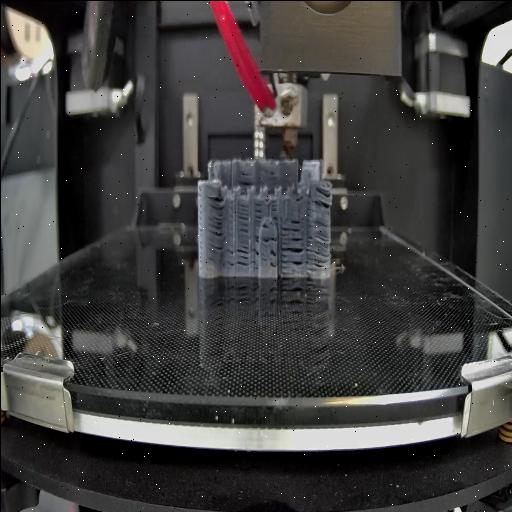cracks: (304, 220, 330, 272), (208, 194, 222, 256), (280, 236, 302, 270), (310, 186, 332, 210), (236, 203, 249, 235), (279, 218, 301, 234), (236, 246, 248, 268), (252, 235, 258, 272), (270, 198, 280, 220), (268, 249, 277, 272), (258, 235, 276, 245), (236, 178, 252, 188), (226, 244, 232, 270), (253, 204, 261, 222), (260, 222, 268, 228)
